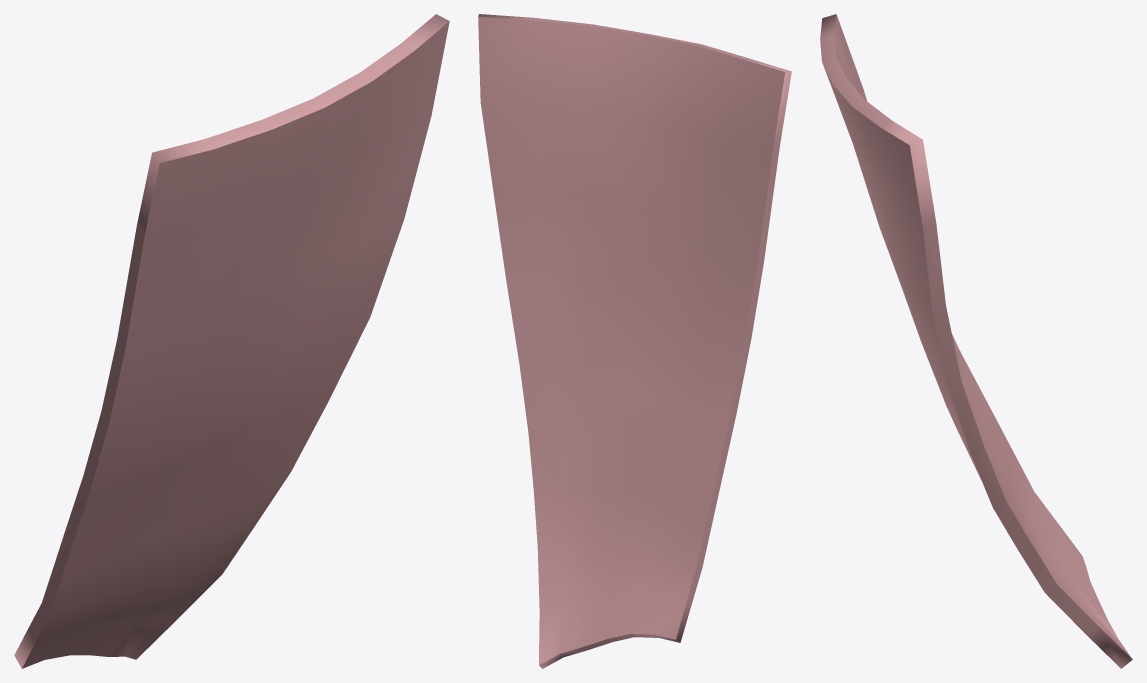
3 views of the same model, side by side, from view 1: azimuth 30°, elevation 25°; view 2: azimuth 150°, elevation 25°; view 3: azimuth 270°, elevation 25° (orthographic). The views are drawn at different scales.
Visible parts, largest first — view 1: ZA_dbb357b73f5120fa; view 2: ZA_dbb357b73f5120fa; view 3: ZA_dbb357b73f5120fa.
Boxes of the visible parts, <box> form: ZA_dbb357b73f5120fa: <box>14,14,449,668</box>; ZA_dbb357b73f5120fa: <box>478,14,791,668</box>; ZA_dbb357b73f5120fa: <box>820,14,1132,668</box>.
Bounding box in the file's own units: 0.0704 × 0.1348 × 0.0624.
